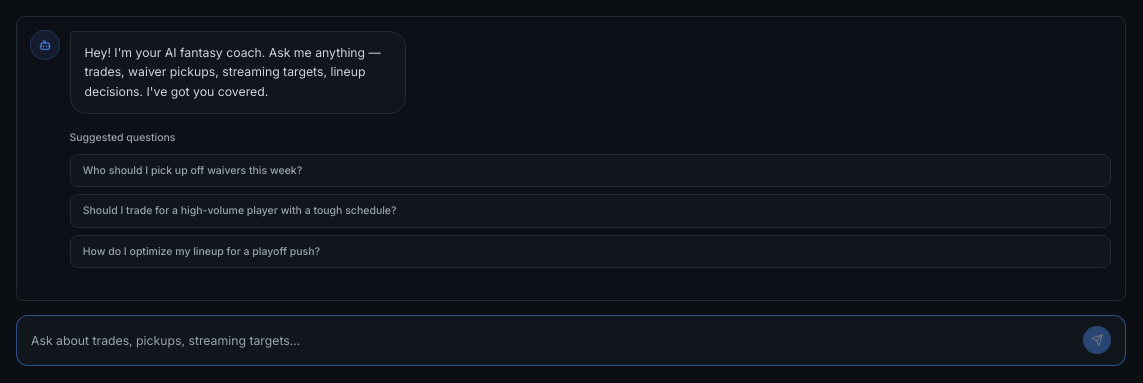
Test: the Coach chat client › reassembles a frame split across two network chunks
In the field: (552, 340) [31,332,1072,349], type "How does my team look?"
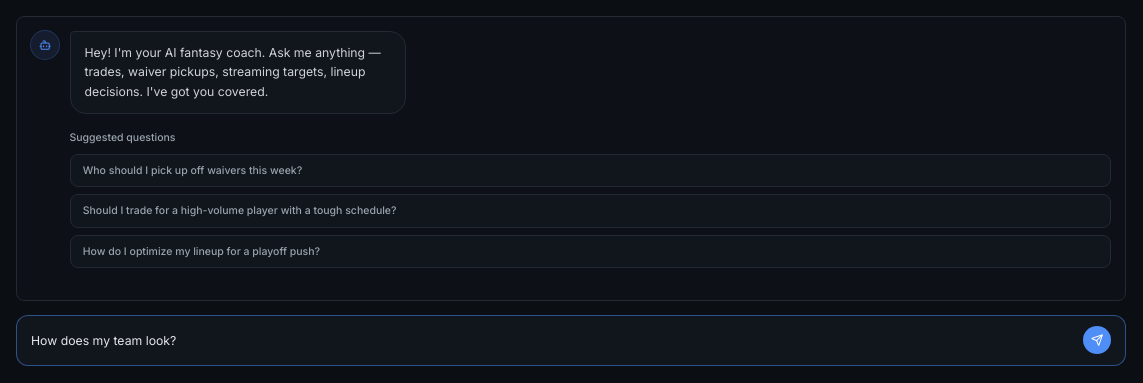
Press Enter
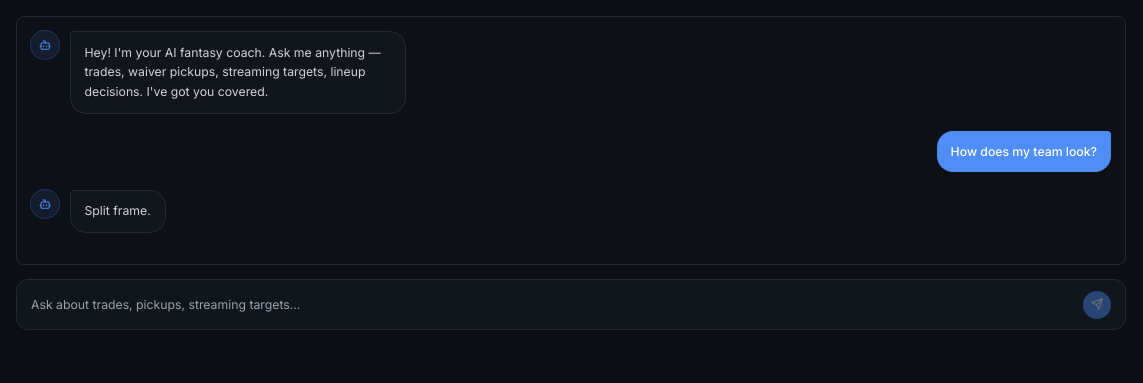
Result: the text "Split frame." is shown at [84,201,151,221]
